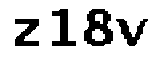1: (46, 8, 78, 52)
8: (83, 9, 114, 49)
v: (114, 15, 148, 49)
z: (9, 16, 40, 51)
